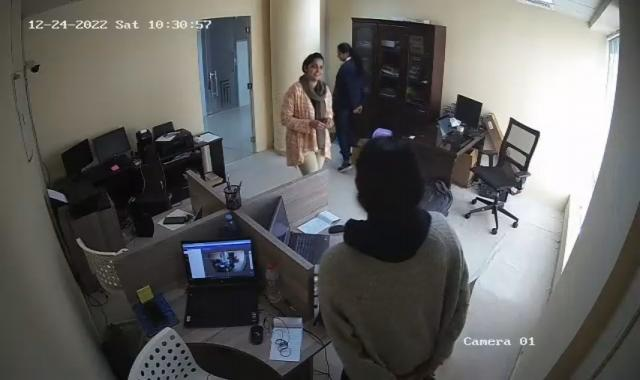no_hairnet: (351, 134, 425, 215), (300, 48, 324, 80), (333, 40, 354, 61)
